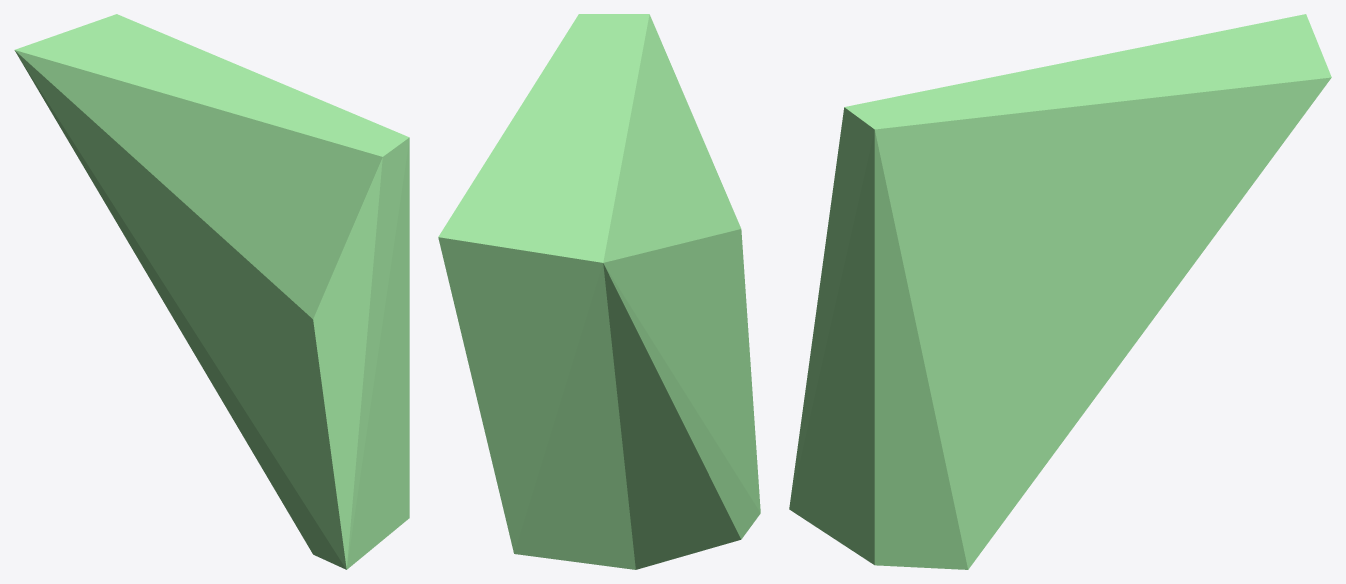
Rendered from dvkr_robot_Lp11_respondable_PSM2_coll_2.dae.
3 views of the same model, side by side, from view 1: azimuth 30°, elevation 25°; view 2: azimuth 150°, elevation 25°; view 3: azimuth 270°, elevation 25° (orthographic). The views are drawn at different scales.
Visible parts, largest first — view 1: Node_0000023514CD9BB0; view 2: Node_0000023514CD9BB0; view 3: Node_0000023514CD9BB0.
Boxes of the visible parts, x1=… form: Node_0000023514CD9BB0: x1=14, y1=14, x2=409, y2=569; Node_0000023514CD9BB0: x1=438, y1=14, x2=760, y2=569; Node_0000023514CD9BB0: x1=789, y1=14, x2=1331, y2=569.
Bounding box in the file's own units: 0.0201 × 0.034 × 0.0384.
